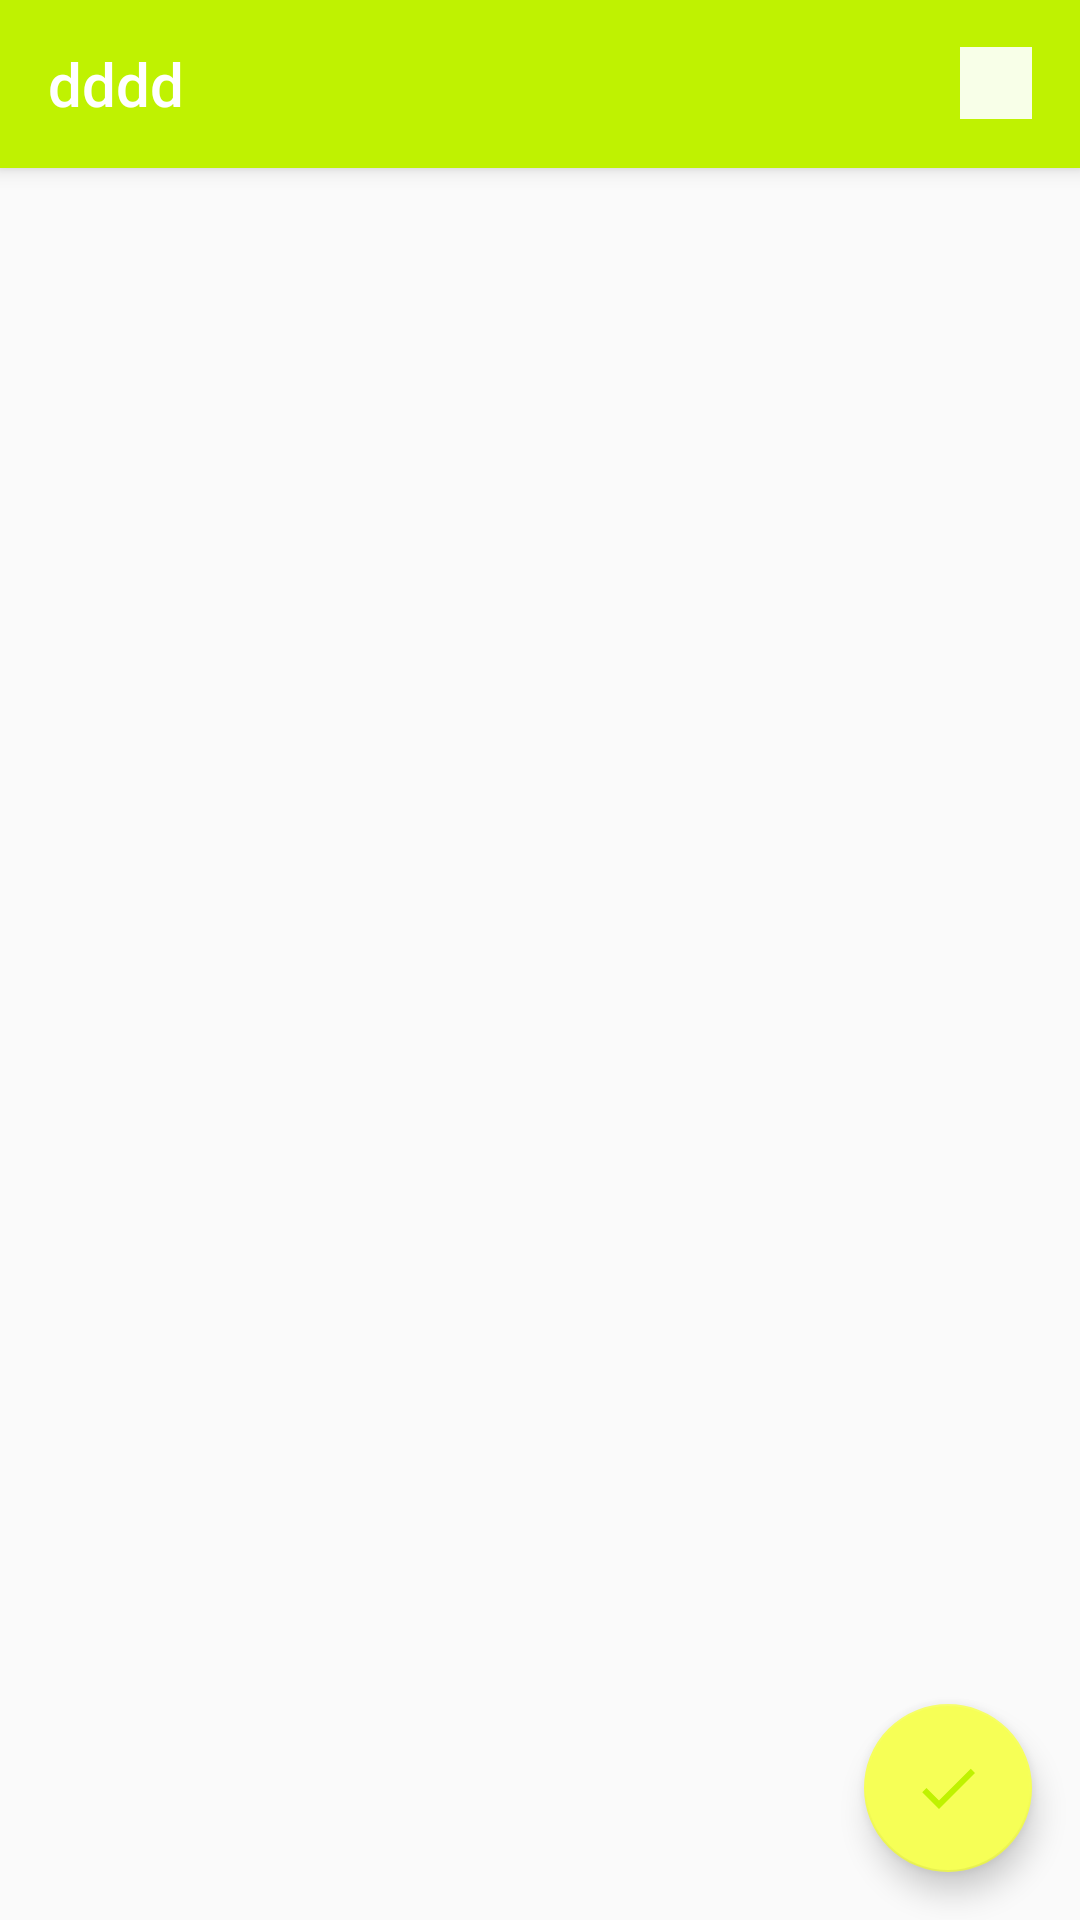

Icons on this 1080 x 1920 Android screen, each with the point to tap as (x,y):
check: (948,1788)
